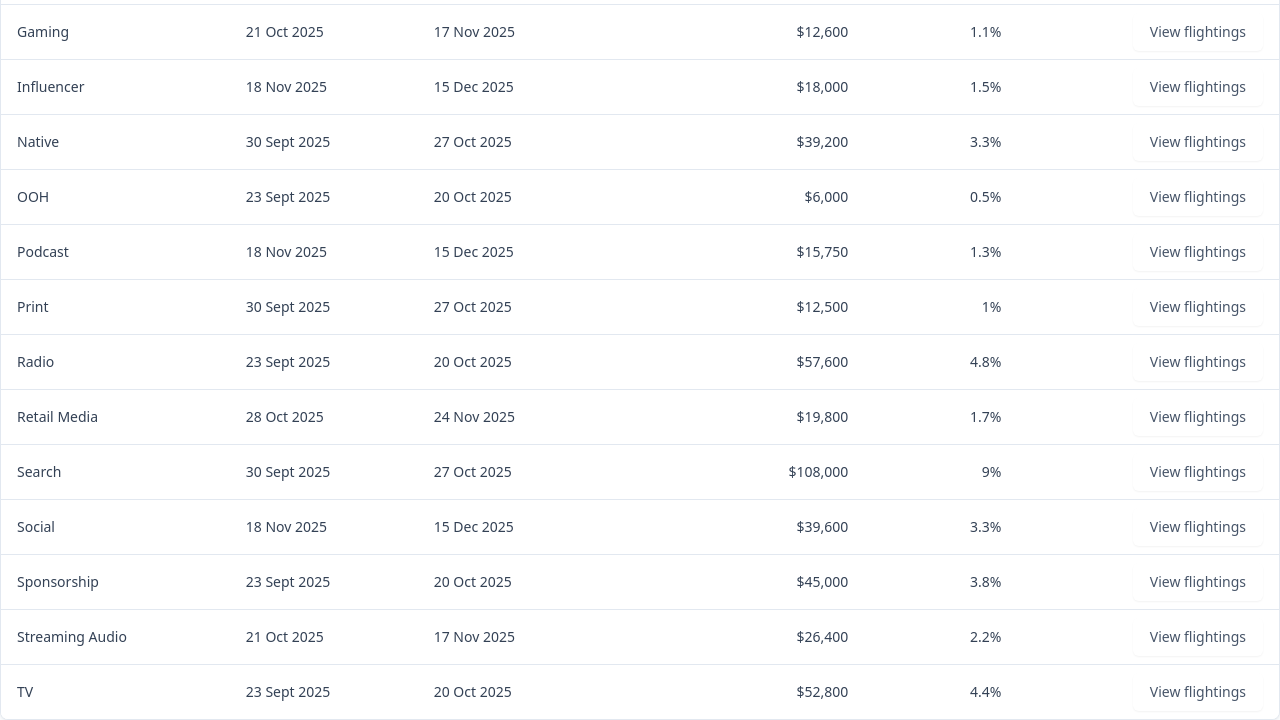
Test case: ChannelTable component › expands a channel row to show the flighting table
The image size is (1280, 720).
(page scrolled)
Expected: the row "TV 23 Sept 2025 20 Oct 2025 $52,800 4.4% View flightings" is shown, [1,664,1279,719]
Click the button "View flightings" in the row of "$52,800". click: (1198, 692)
box: [1133,673,1263,711]
(page scrolled)
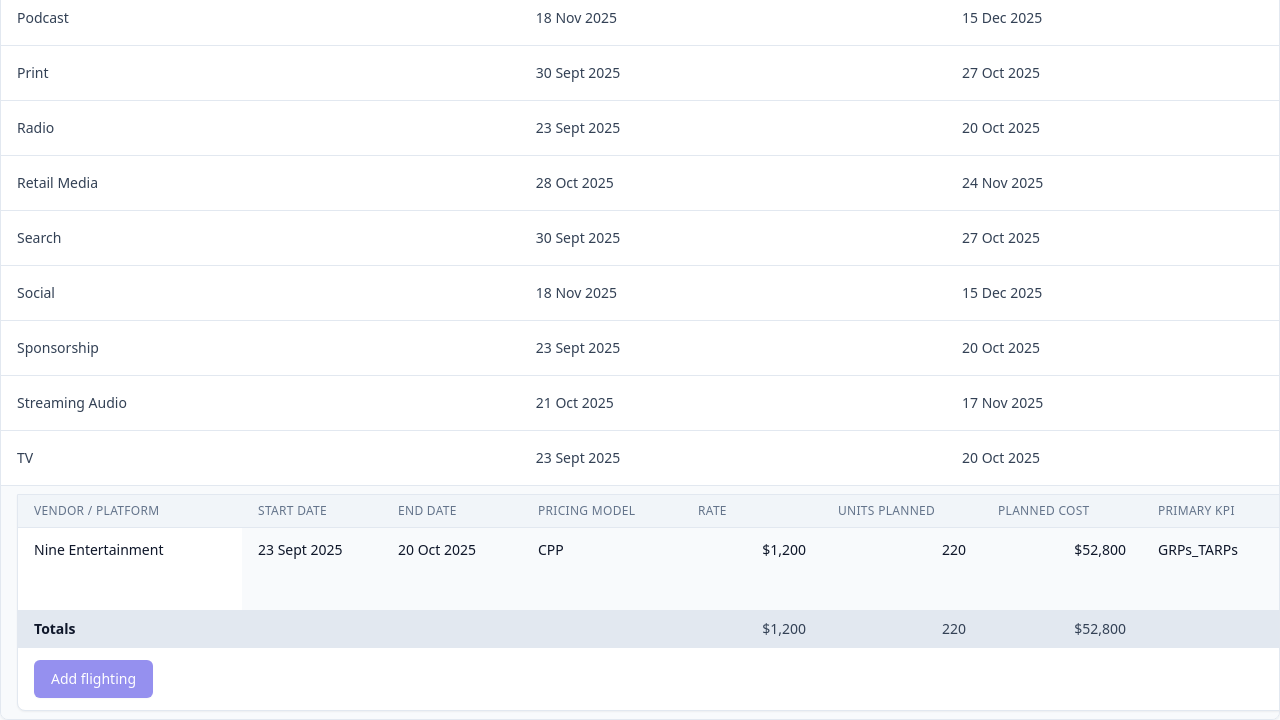
Now the column heading "Vendor / Platform" is shown, box [18,495,242,528]
Now the text "Totals" is shown, box [18,610,242,647]
